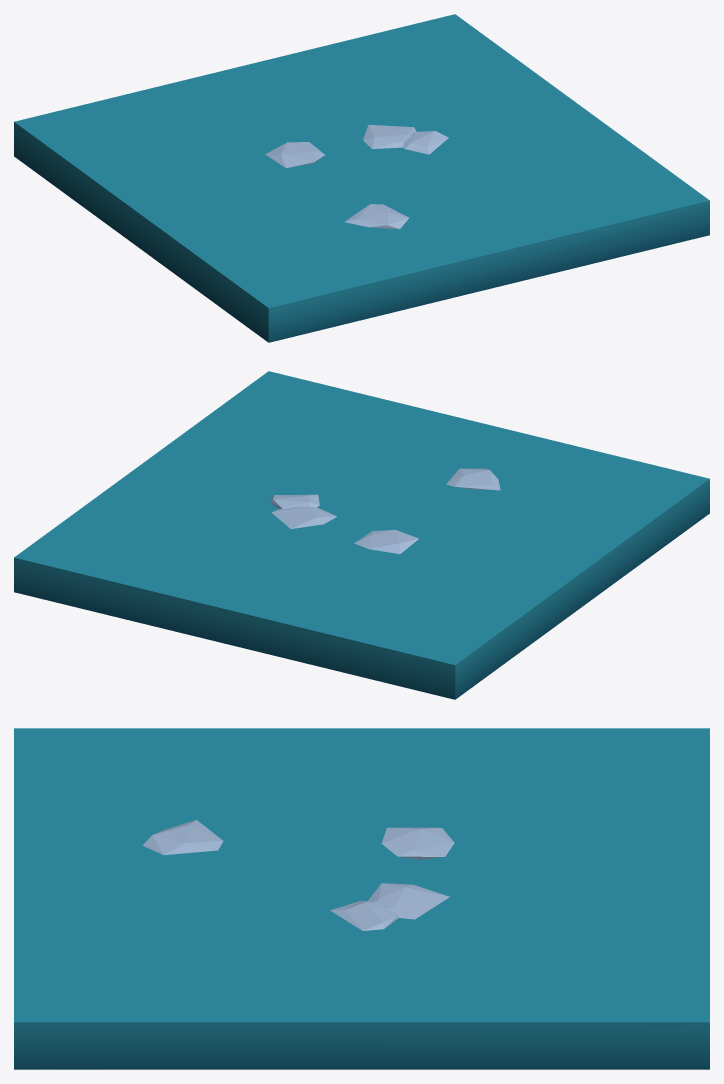
Rendered from water-open-oasis.glb.
3 views of the same model, one above another, from view 1: azimuth 30°, elevation 25°; view 2: azimuth 150°, elevation 25°; view 3: azimuth 270°, elevation 25° (orthographic). The views are drawn at different scales.
Parts seen in each view (by area): view 1: water_open_oasis; view 2: water_open_oasis; view 3: water_open_oasis.
Boxes of the visible parts, x1,y1,x2,y2 form: water_open_oasis: [14, 14, 709, 342]; water_open_oasis: [14, 371, 709, 699]; water_open_oasis: [14, 728, 709, 1069].
Bounding box in the file's own units: 4 × 0.3462 × 4.
